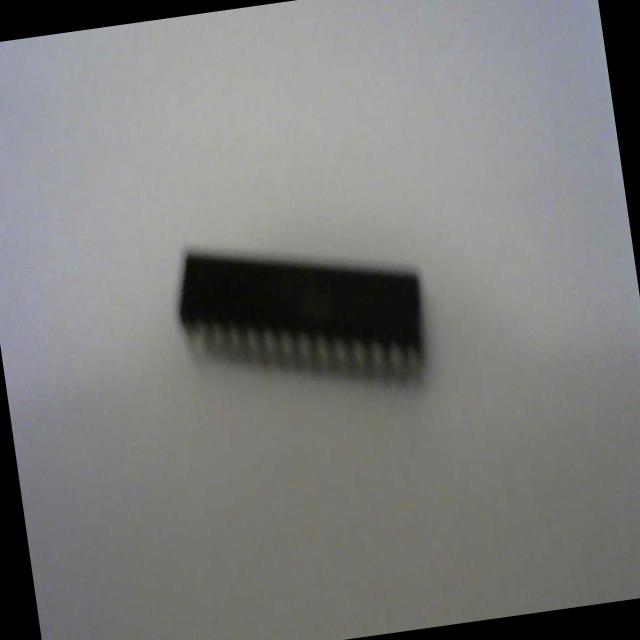atmega: (167, 212, 437, 420)
